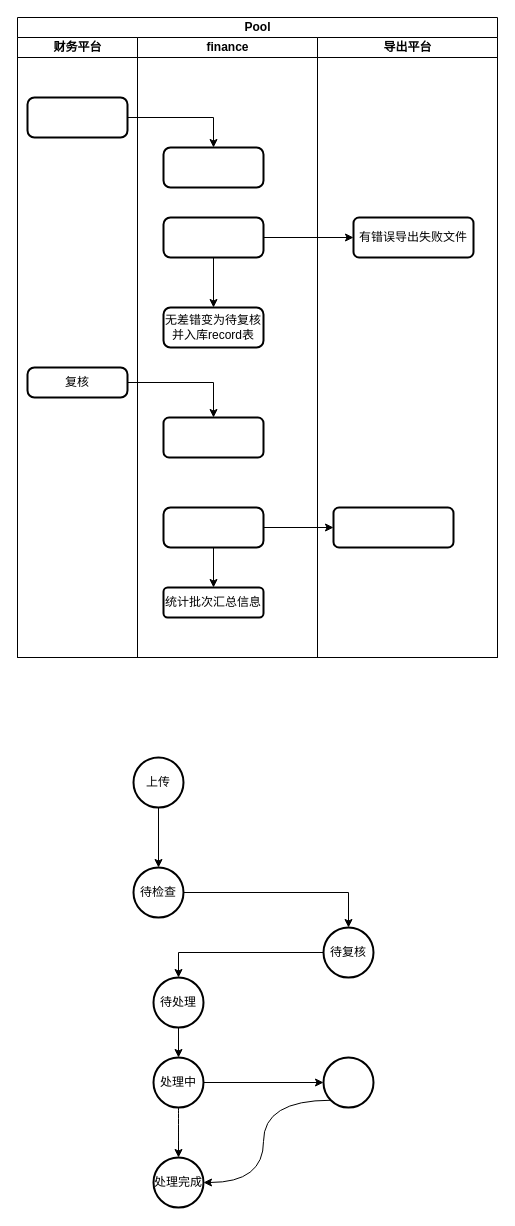
The diagram is 515 pixels wide and 1226 high, and some of its shapes have lost their labels. Each missing label, with the centre of its shape:
record表数据-> voucher表: the point at 213,437
上传文件: the point at 77,117
入库apply表: the point at 213,167
定时任务处理 请求收单: the point at 213,527
导出失败的记录: the point at 393,527
异步校验内容: the point at 213,237
待重试: the point at 348,1082
